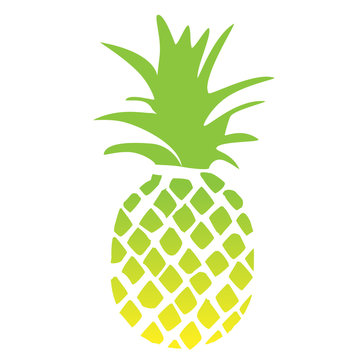Pineapple: (102, 14, 275, 349)
